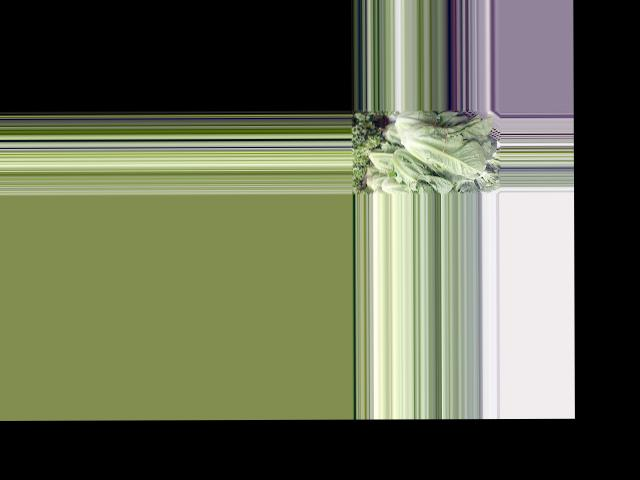lettuce: (389, 149, 455, 190)
